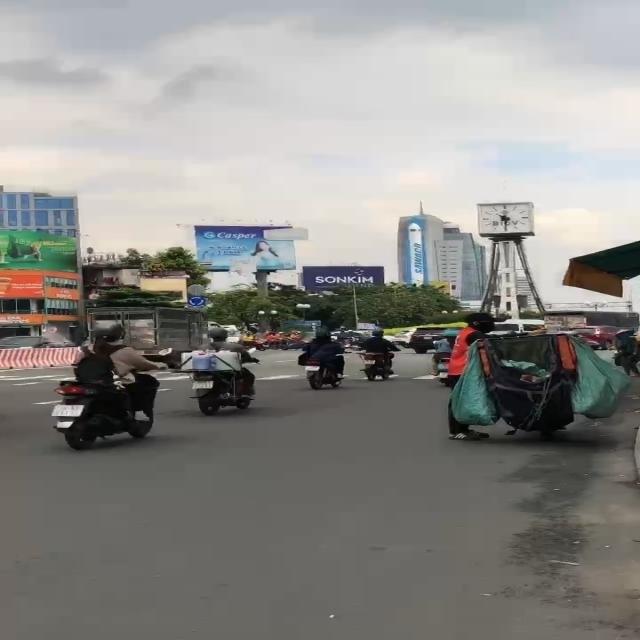Bien bao noi giao nhau chay theo vong xuyen: (186, 296, 207, 307)
